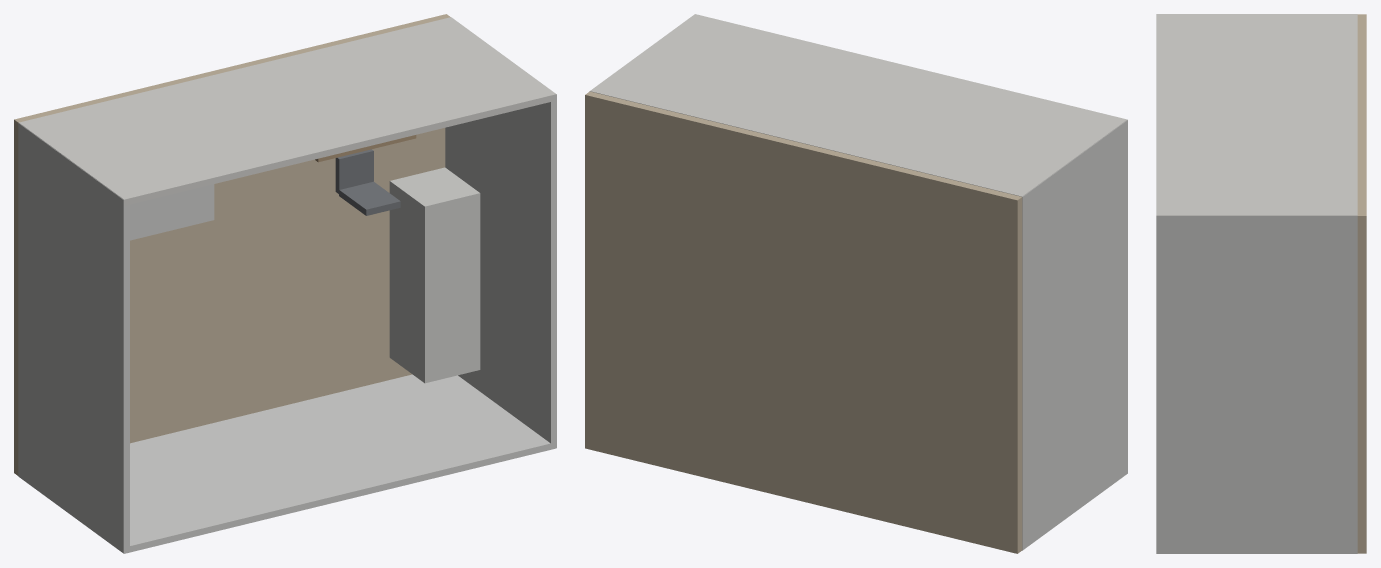
The model's file is INT_Founder_Studio_Blockout.glb.
3 views of the same model, side by side, from view 1: azimuth 30°, elevation 25°; view 2: azimuth 150°, elevation 25°; view 3: azimuth 270°, elevation 25° (orthographic). The views are drawn at different scales.
Parts seen in each view (by area): view 1: floor, north_wall, west_wall, south_wall_right, east_wall, kitchenette, south_wall_left, bed, chair_back, chair; view 2: floor, north_wall, west_wall; view 3: east_wall, north_wall, floor.
Part boxes in pixels (box(x1,y1,x2,y2)): floor: box(14, 14, 450, 475); north_wall: box(19, 17, 556, 205); west_wall: box(18, 123, 129, 553); south_wall_right: box(154, 374, 556, 520); east_wall: box(445, 94, 556, 449); kitchenette: box(389, 167, 480, 383); south_wall_left: box(124, 437, 259, 553); bed: box(130, 184, 214, 240); chair_back: box(339, 181, 400, 215); chair: box(335, 149, 373, 193); floor: box(585, 91, 1022, 553); north_wall: box(590, 14, 1127, 196); west_wall: box(1022, 120, 1127, 550); east_wall: box(1156, 216, 1357, 553); north_wall: box(1156, 14, 1357, 215); floor: box(1357, 14, 1366, 553).
Bounding box in the file's own units: 6.41 × 5.01 × 2.82.
